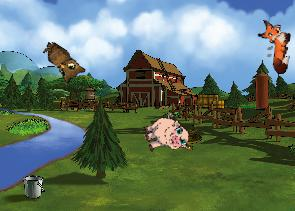fox: (253, 19, 294, 74)
owl: (34, 39, 88, 88)
pig: (140, 110, 191, 159)
